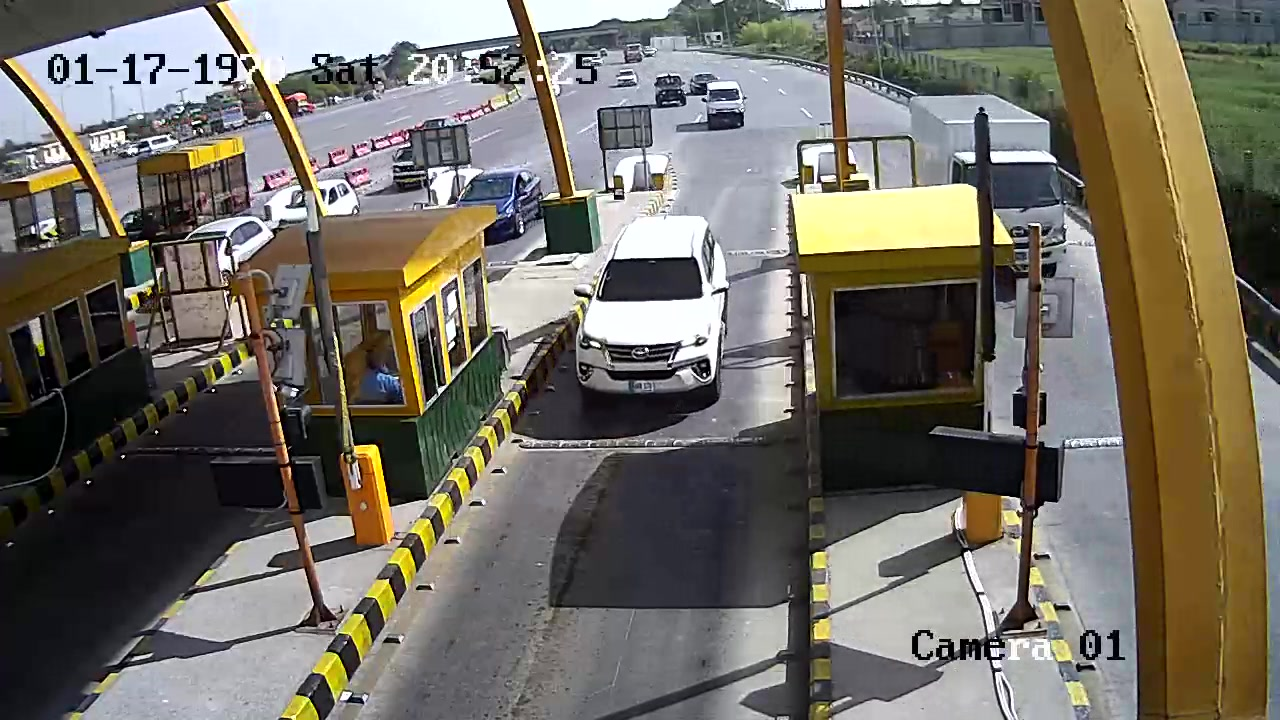F1: (563, 198, 751, 407)
